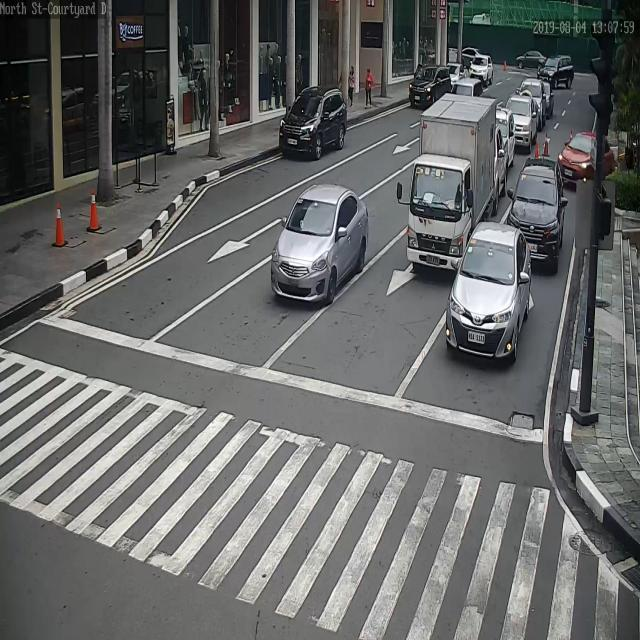car: (446, 224, 533, 360), (270, 183, 368, 301), (506, 157, 563, 270), (279, 86, 348, 160), (558, 133, 615, 185), (411, 63, 452, 107), (505, 95, 537, 149), (519, 77, 547, 127), (497, 107, 516, 169), (538, 55, 574, 87), (495, 125, 508, 212), (449, 77, 486, 97), (516, 49, 548, 71), (469, 55, 493, 83), (447, 63, 468, 93), (542, 79, 556, 116)
motorcycle: (405, 99, 497, 278)
